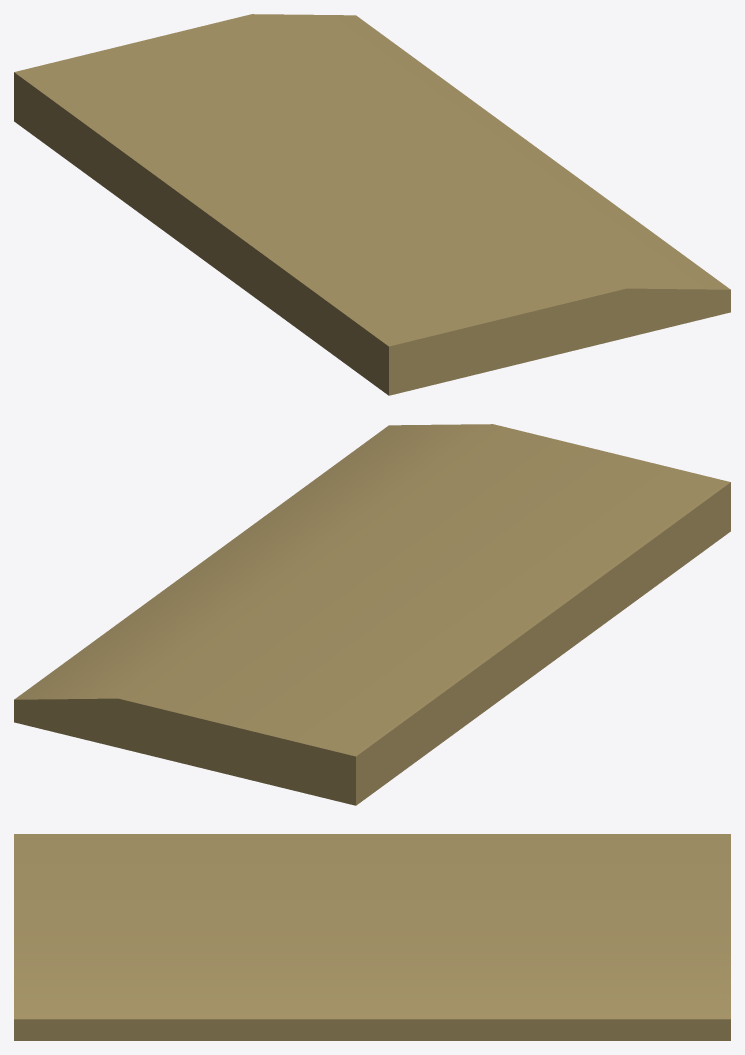
File: 2_Canopy.fbx
The picture shows the model from 3 angles, top to bottom: view 1: azimuth 30°, elevation 25°; view 2: azimuth 150°, elevation 25°; view 3: azimuth 270°, elevation 25°; orthographic projection. The views are drawn at different scales.
Parts seen in each view (by area): view 1: pasted__pasted___pCube34; view 2: pasted__pasted___pCube34; view 3: pasted__pasted___pCube34.
Boxes of the visible parts, x1,y1,x2,y2 form: pasted__pasted___pCube34: (14,14,730,395); pasted__pasted___pCube34: (14,424,730,805); pasted__pasted___pCube34: (14,834,730,1040).
Bounding box in the file's own units: 2.22 × 0.3054 × 4.21.
